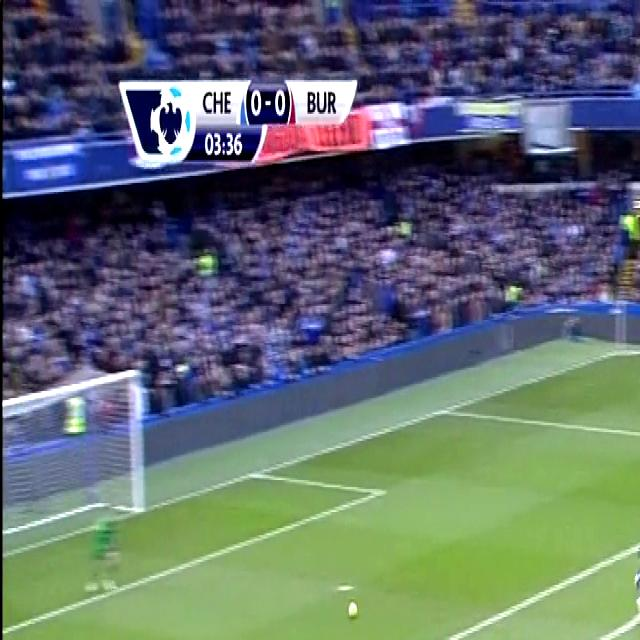ball: (345, 595, 361, 626)
goalkeeper: (80, 484, 133, 604)
soccer-player: (630, 499, 640, 633)
